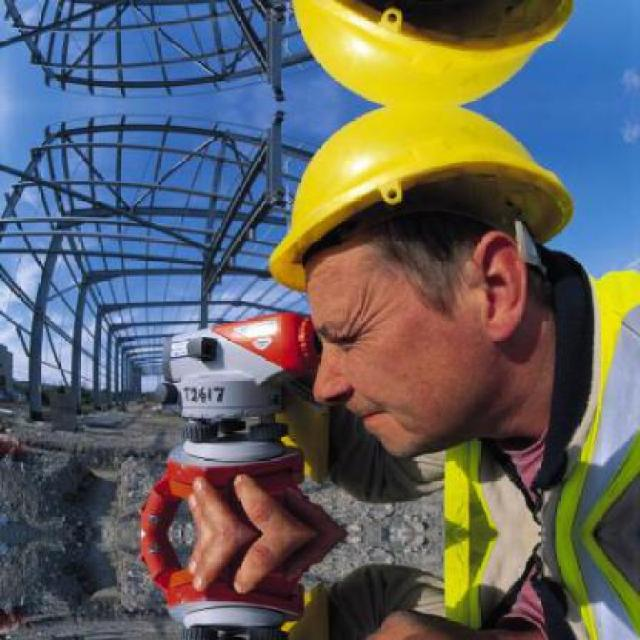helmet: (262, 103, 578, 278)
